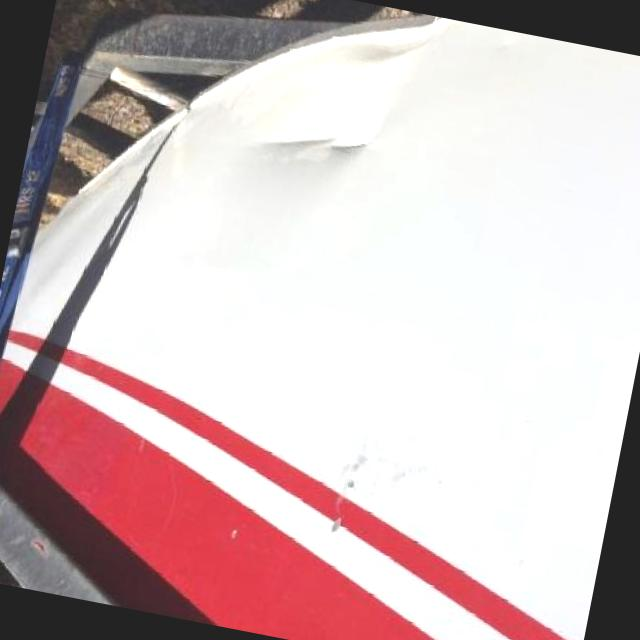dent: (355, 14, 451, 73), (259, 127, 382, 165)
